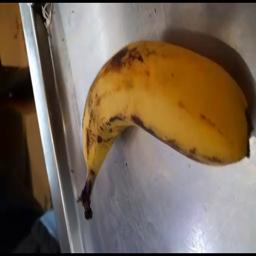Banana Semirotten: (65, 35, 256, 214)
